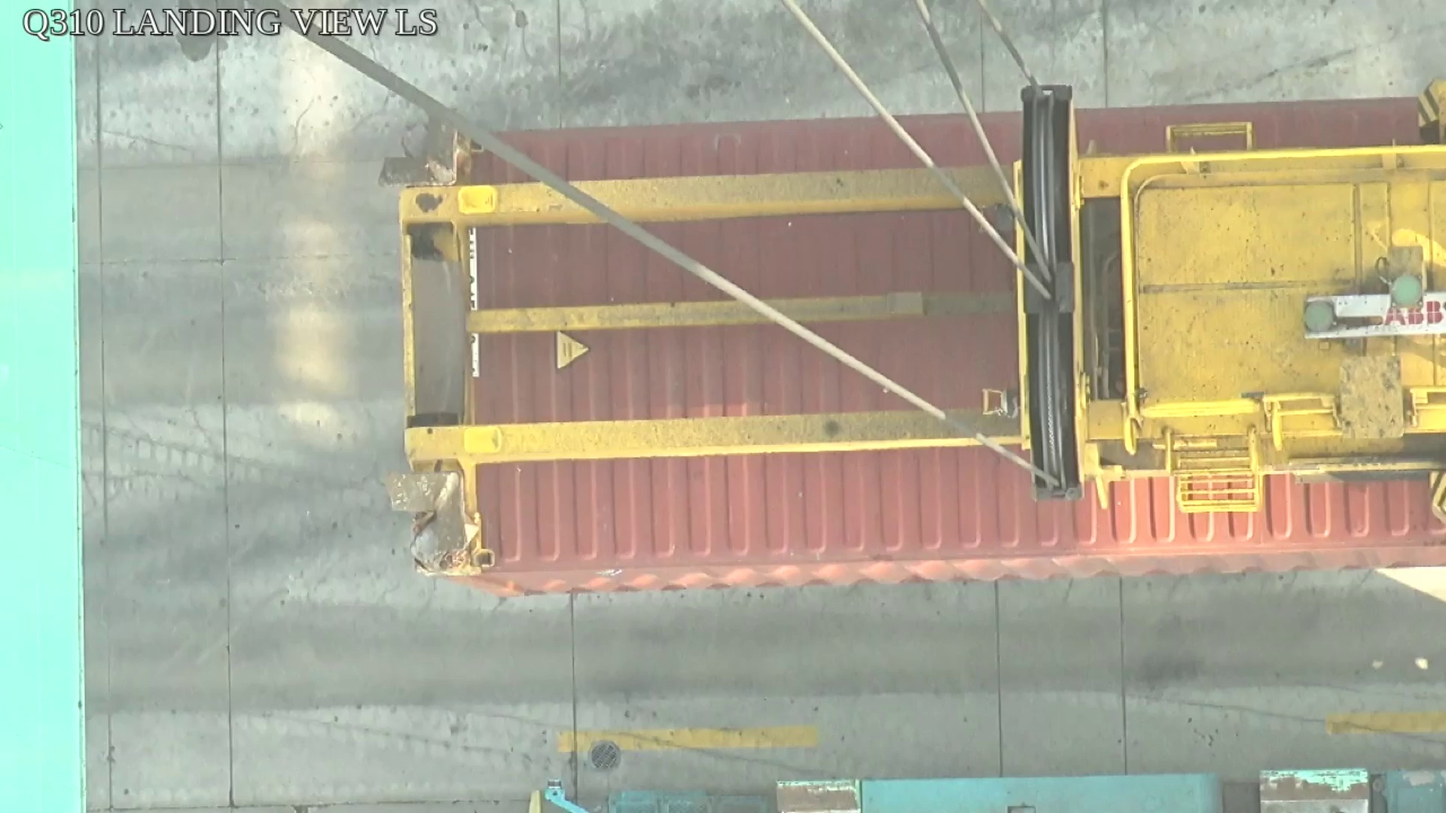aa: (1012, 87, 1094, 501)
